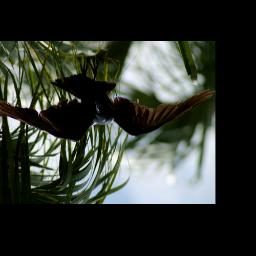Crow: (0, 60, 214, 143)
